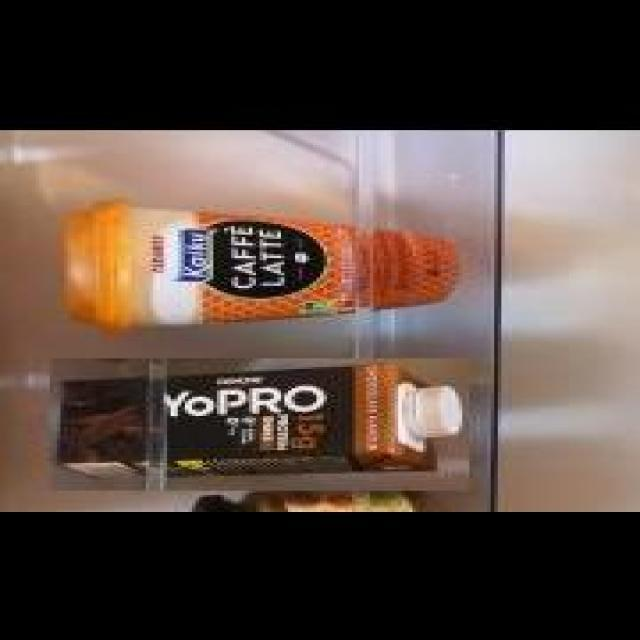yogurt: (49, 355, 470, 488)
